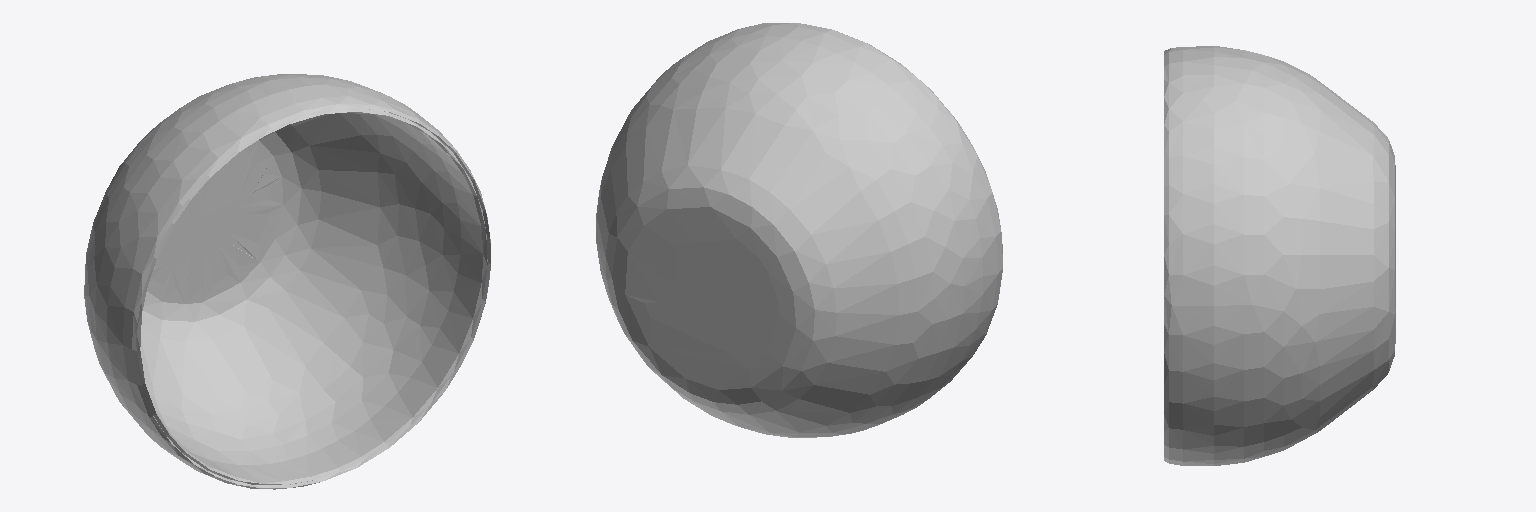
The model's file is simple_mesh.obj.
The picture shows the model from 3 angles: view 1: azimuth 30°, elevation 25°; view 2: azimuth 150°, elevation 25°; view 3: azimuth 270°, elevation 25°; orthographic projection.
Visible parts, largest first — view 1: bowl1_Sphere.001; view 2: bowl1_Sphere.001; view 3: bowl1_Sphere.001.
Boxes of the visible parts, x1,y1,x2,y2 form: bowl1_Sphere.001: [84, 74, 490, 489]; bowl1_Sphere.001: [596, 23, 1002, 437]; bowl1_Sphere.001: [1164, 46, 1395, 465].
Bounding box in the file's own units: 0.1621 × 0.1621 × 0.0893.